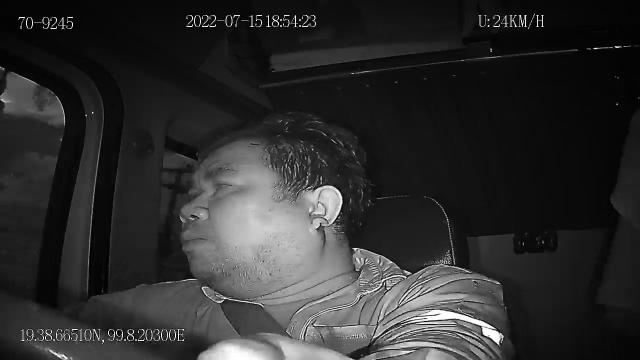Seatbelt: (220, 297, 294, 339)
